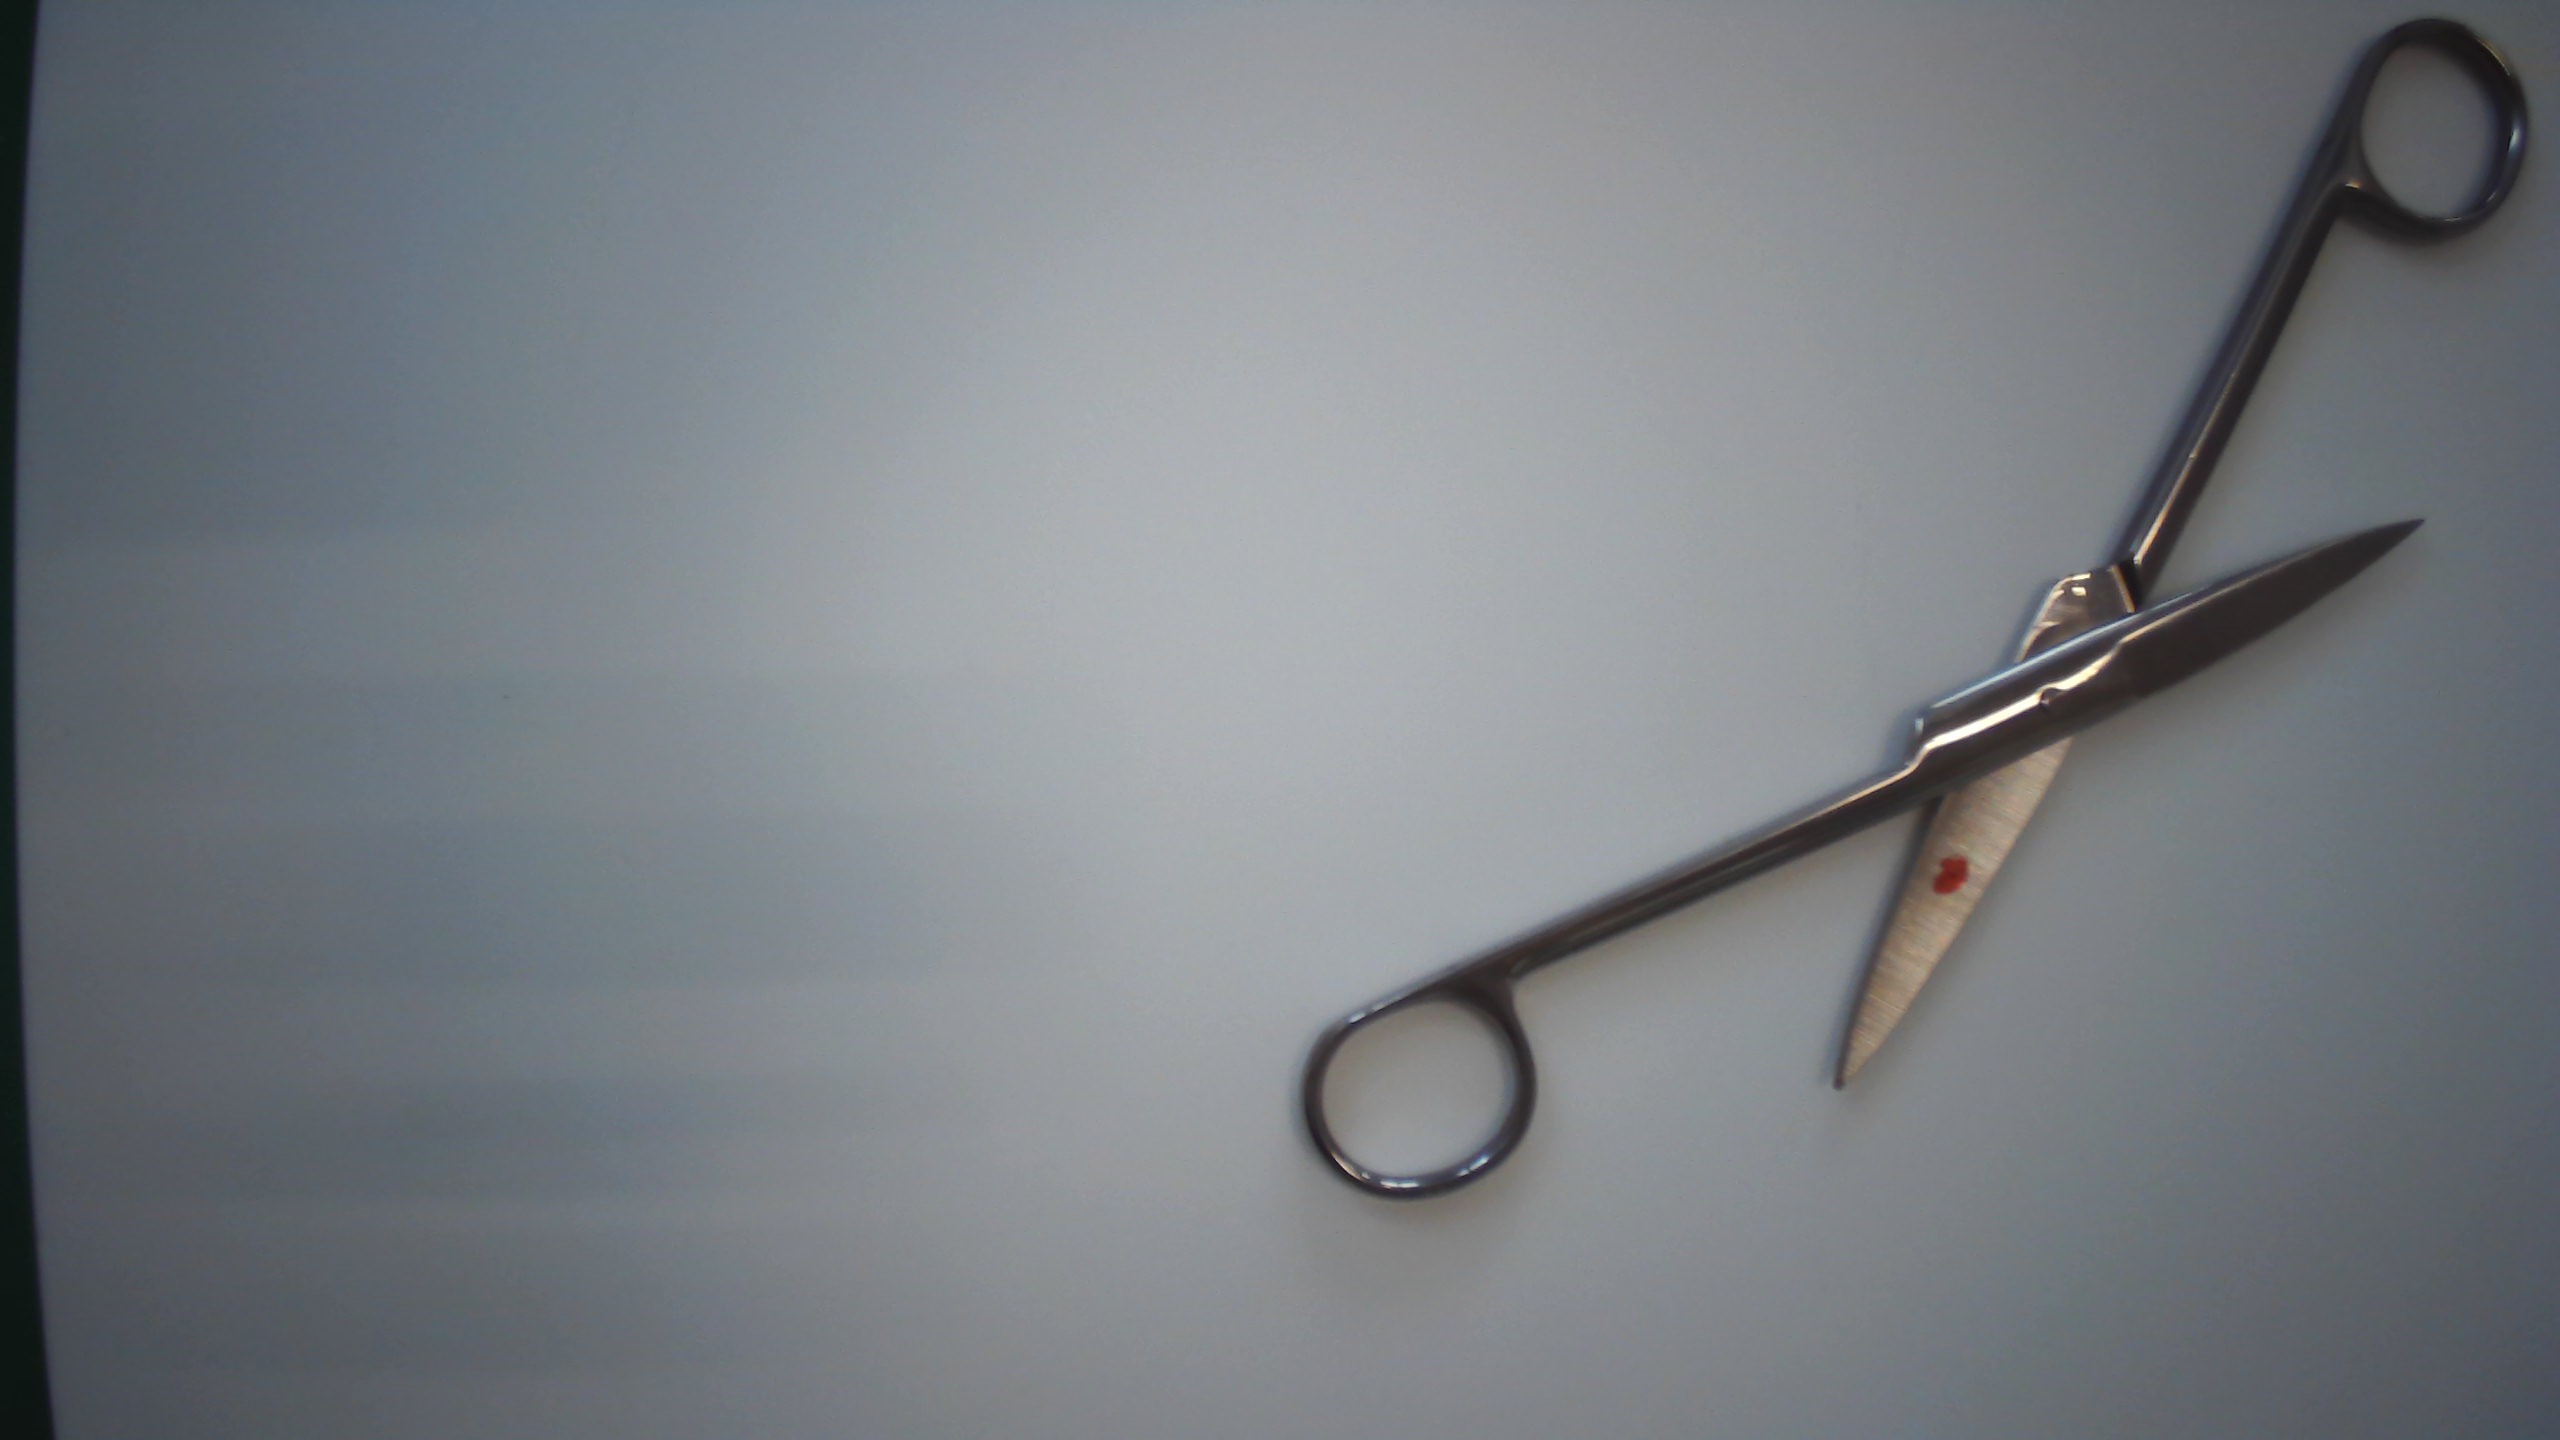Stain: (1934, 849, 1978, 920)
